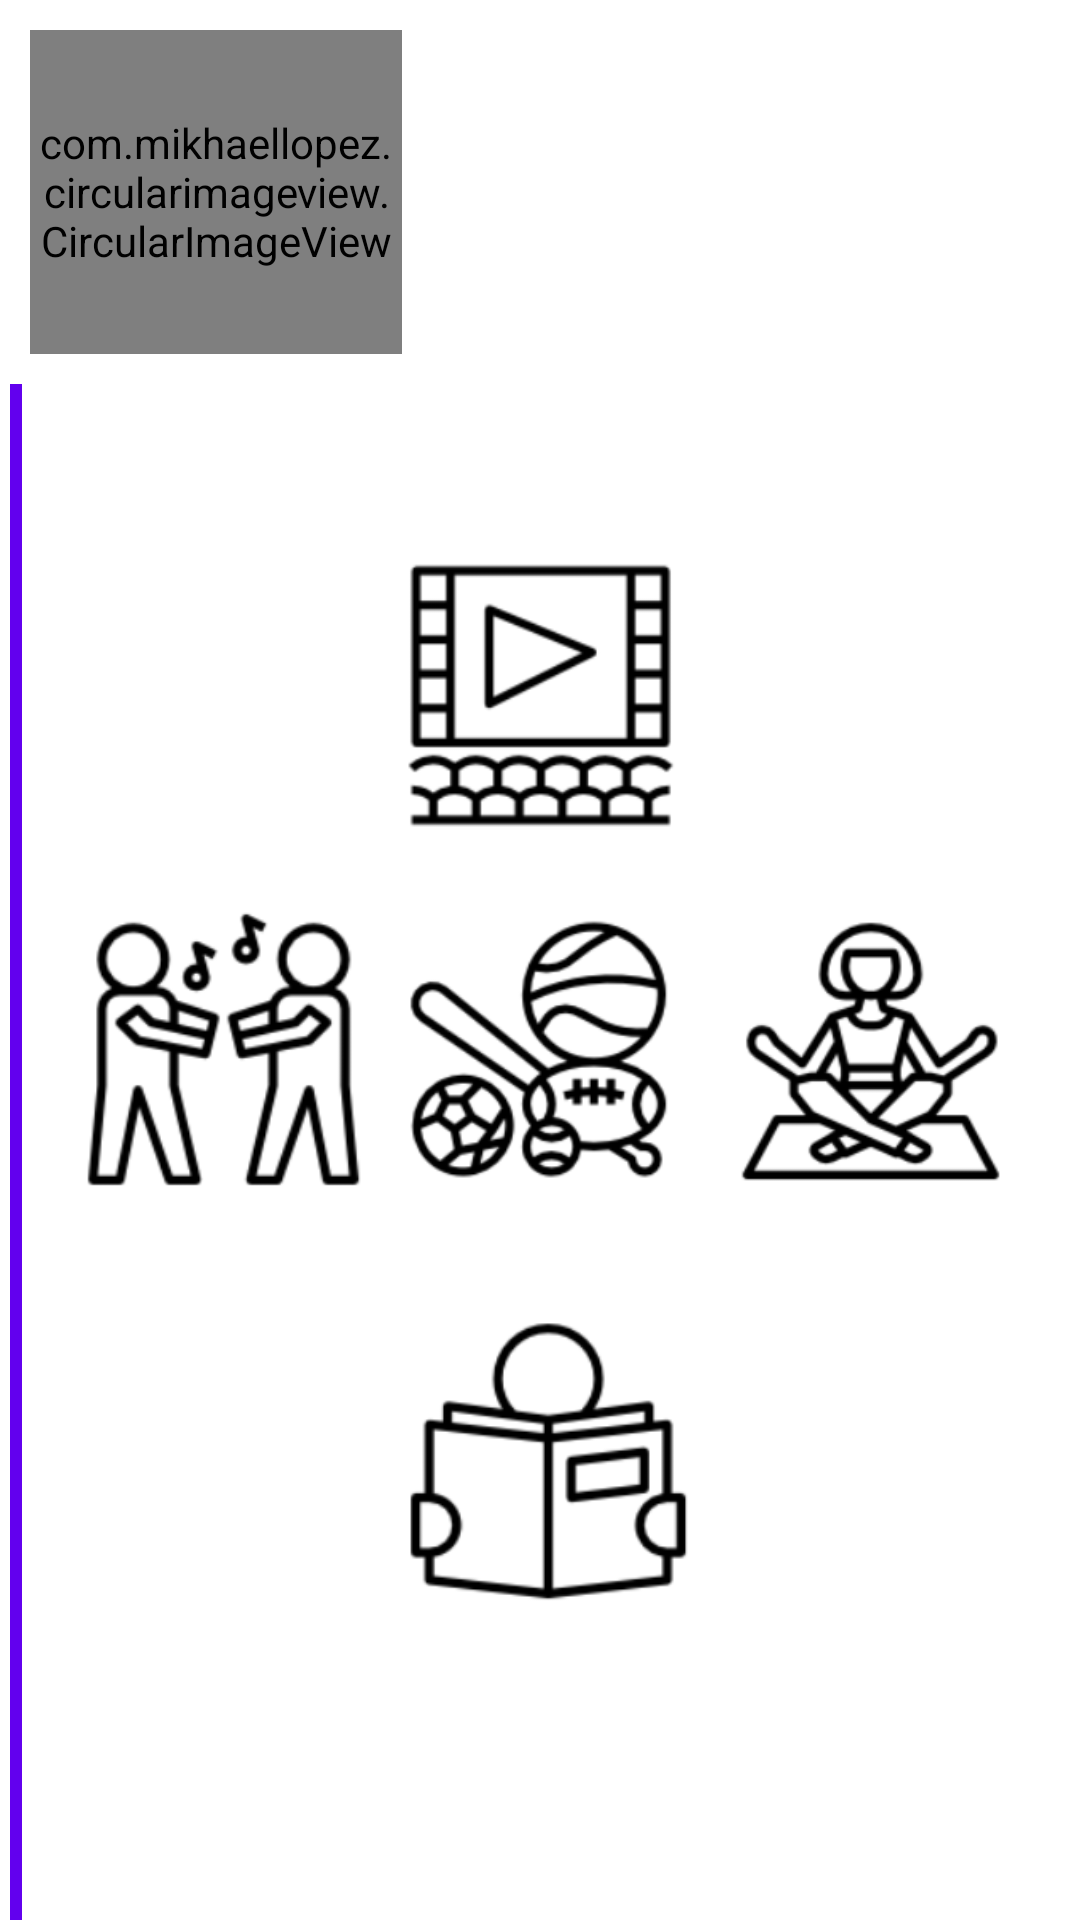

Named icons in this screenshot (1080 × 1920) and their bounding boxes, (x1, y1, x2, y2):
cinema: (408, 565, 673, 826)
danser: (87, 913, 360, 1186)
lecture: (410, 1323, 687, 1600)
sport: (410, 921, 667, 1178)
yoga: (741, 922, 1000, 1181)
